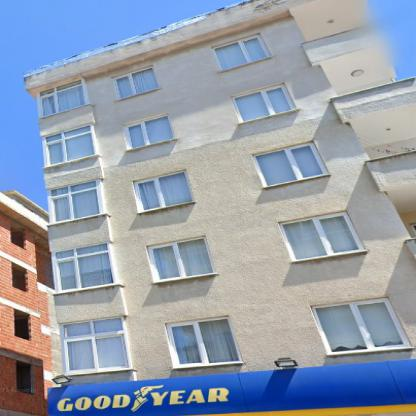window: (316, 300, 406, 350), (281, 214, 363, 260), (63, 319, 129, 372), (172, 318, 238, 363), (149, 237, 214, 282), (55, 243, 113, 291), (257, 145, 323, 186), (48, 180, 100, 223), (134, 172, 192, 210), (232, 85, 293, 120), (45, 126, 95, 165), (37, 79, 88, 116), (214, 35, 265, 70), (125, 115, 172, 147), (115, 66, 158, 98)
